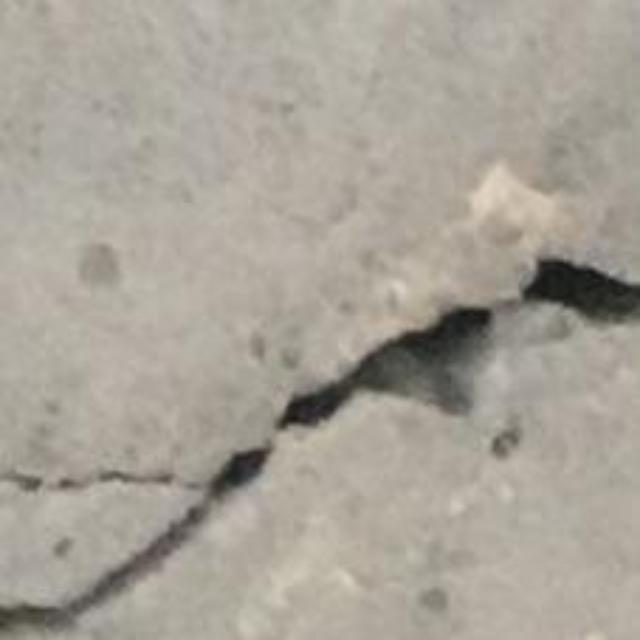crack: (276, 259, 637, 426), (0, 443, 271, 626), (3, 471, 175, 488)
